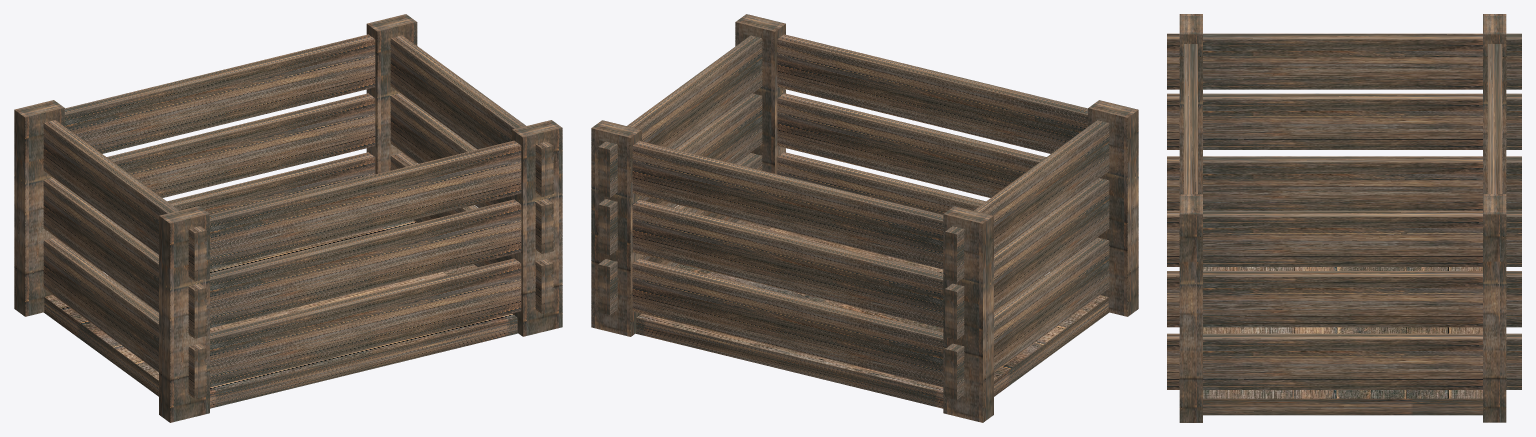
File: foodCrate.fbx
The picture shows the model from 3 angles, left to right: view 1: azimuth 30°, elevation 25°; view 2: azimuth 150°, elevation 25°; view 3: azimuth 270°, elevation 25°; orthographic projection. The views are drawn at different scales.
Parts seen in each view (by area): view 1: foodCrateBigSide2, foodCrateBigSide, foodCrateBigSide1, pasted__foodCrateBigSide2, pasted__foodCrateBigSide1, foodCrateBase, pasted__foodCrateSmallSide2, foodCrateCorner1, pasted__foodCrateSmallSide, foodCrateSmallSide2, pasted__foodCrateSmallSide1, foodCrateCorner2 (+5 smaller); view 2: pasted__foodCrateBigSide1, pasted__foodCrateBigSide, pasted__foodCrateBigSide2, foodCrateBigSide2, foodCrateBigSide1, foodCrateBase, pasted__foodCrateSmallSide2, pasted__foodCrateSmallSide, foodCrateSmallSide2, pasted__foodCrateSmallSide1, foodCrateCorner2, foodCrateCorner1 (+5 smaller); view 3: foodCrateSmallSide2, foodCrateSmallSide1, foodCrateSmallSide, pasted__foodCrateSmallSide2, pasted__foodCrateSmallSide1, pasted__foodCrateSmallSide, foodCrateBase, foodCrateCorner, foodCrateCorner3, pasted__foodCrateBigSide2, foodCrateBigSide2, foodCrateCorner1 (+1 smaller).
Boxes of the visible parts, box(x1,y1,x2,y2) form: foodCrateBigSide2: box(210, 140, 521, 269); foodCrateBigSide: box(210, 258, 521, 387); foodCrateBigSide1: box(210, 199, 521, 328); pasted__foodCrateBigSide2: box(65, 34, 375, 153); pasted__foodCrateBigSide1: box(107, 93, 375, 197); foodCrateBase: box(44, 220, 517, 408); pasted__foodCrateSmallSide2: box(43, 120, 206, 281); foodCrateCorner1: box(159, 206, 209, 422); pasted__foodCrateSmallSide: box(43, 237, 206, 398); foodCrateSmallSide2: box(390, 35, 553, 196); pasted__foodCrateSmallSide1: box(43, 178, 206, 338); foodCrateCorner2: box(14, 100, 64, 316); pasted__foodCrateBigSide1: box(632, 199, 943, 327); pasted__foodCrateBigSide: box(632, 258, 943, 386); pasted__foodCrateBigSide2: box(632, 141, 943, 269); foodCrateBigSide2: box(777, 34, 1087, 153); foodCrateBigSide1: box(777, 93, 1046, 197); foodCrateBase: box(636, 220, 1108, 408); pasted__foodCrateSmallSide2: box(945, 120, 1109, 282); pasted__foodCrateSmallSide: box(945, 237, 1109, 399); foodCrateSmallSide2: box(598, 35, 762, 197); pasted__foodCrateSmallSide1: box(945, 178, 1109, 339); foodCrateCorner2: box(943, 206, 993, 422); foodCrateCorner1: box(1088, 100, 1138, 316); foodCrateSmallSide2: box(1167, 210, 1521, 266); foodCrateSmallSide1: box(1167, 271, 1521, 327); foodCrateSmallSide: box(1167, 333, 1521, 389); pasted__foodCrateSmallSide2: box(1167, 33, 1521, 89); pasted__foodCrateSmallSide1: box(1167, 93, 1521, 149); pasted__foodCrateSmallSide: box(1167, 156, 1521, 210); foodCrateBase: box(1203, 267, 1482, 415); foodCrateCorner: box(1179, 194, 1202, 422); foodCrateCorner3: box(1483, 194, 1506, 422); pasted__foodCrateBigSide2: box(1487, 44, 1502, 193); foodCrateBigSide2: box(1183, 44, 1197, 194); foodCrateCorner1: box(1179, 14, 1202, 194).
Bounding box in the file's own units: 0.7084 × 0.3448 × 0.5301.
